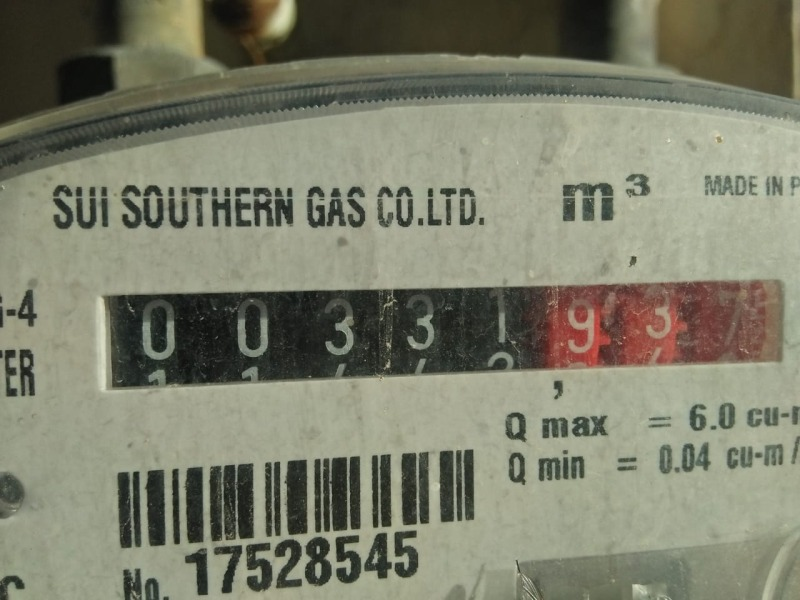ssgc: (96, 276, 783, 372)
